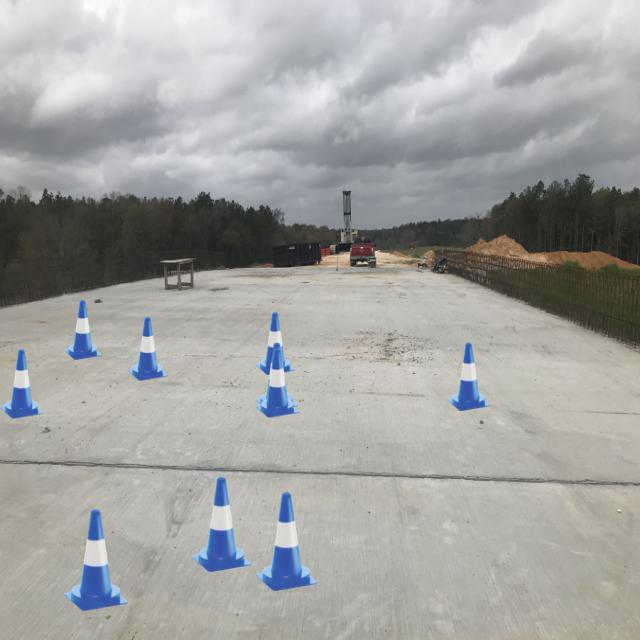blue_cone: (64, 509, 128, 611), (255, 492, 318, 591), (192, 477, 251, 572), (256, 348, 299, 418), (0, 349, 43, 418), (448, 343, 490, 411), (256, 343, 298, 411), (128, 317, 168, 381), (256, 312, 294, 375), (64, 300, 102, 360)
